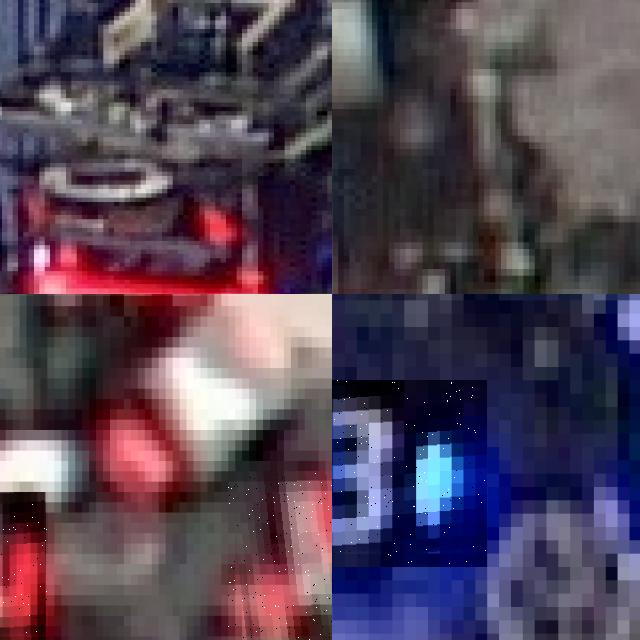B3: (332, 380, 487, 566)
R4: (228, 471, 332, 640), (0, 492, 47, 640)
